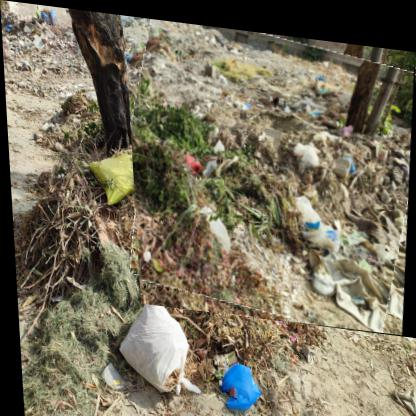Garbage: (125, 13, 416, 332), (113, 270, 117, 279)
